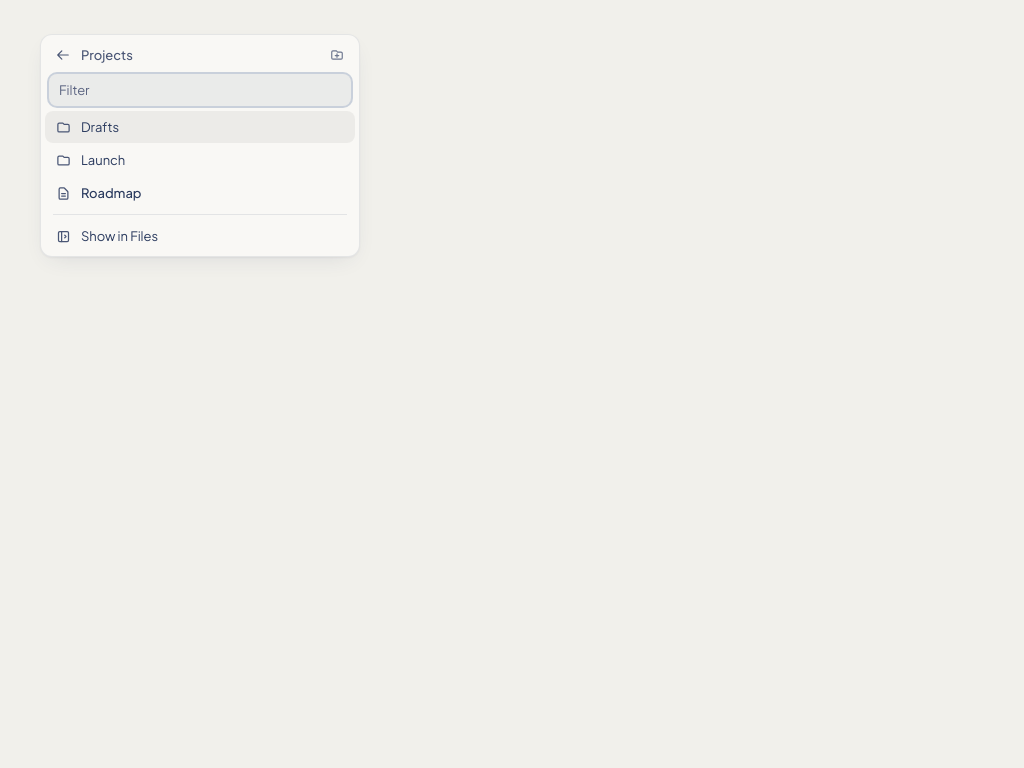
it: FolderPopover › creates a new folder in place and steps into it
Click the button named "New Folder": {"x": 337, "y": 55} [323,41,351,69]
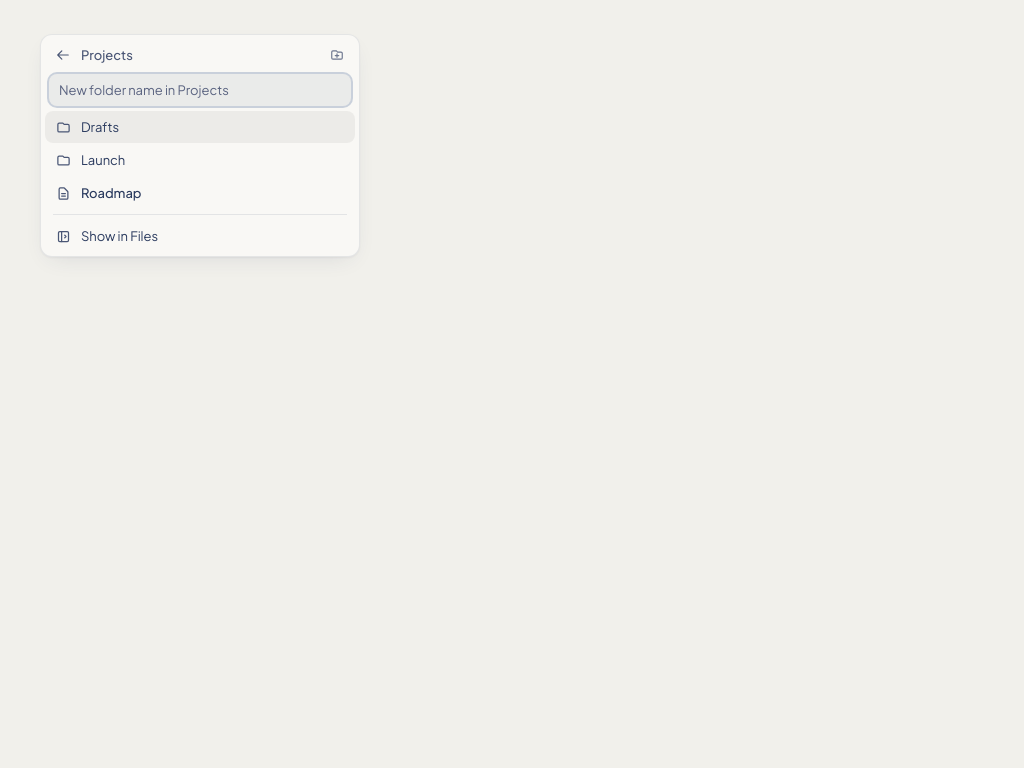
In the field labelled "New folder name": {"x": 200, "y": 90} [49,74,351,106], type "Drafts"
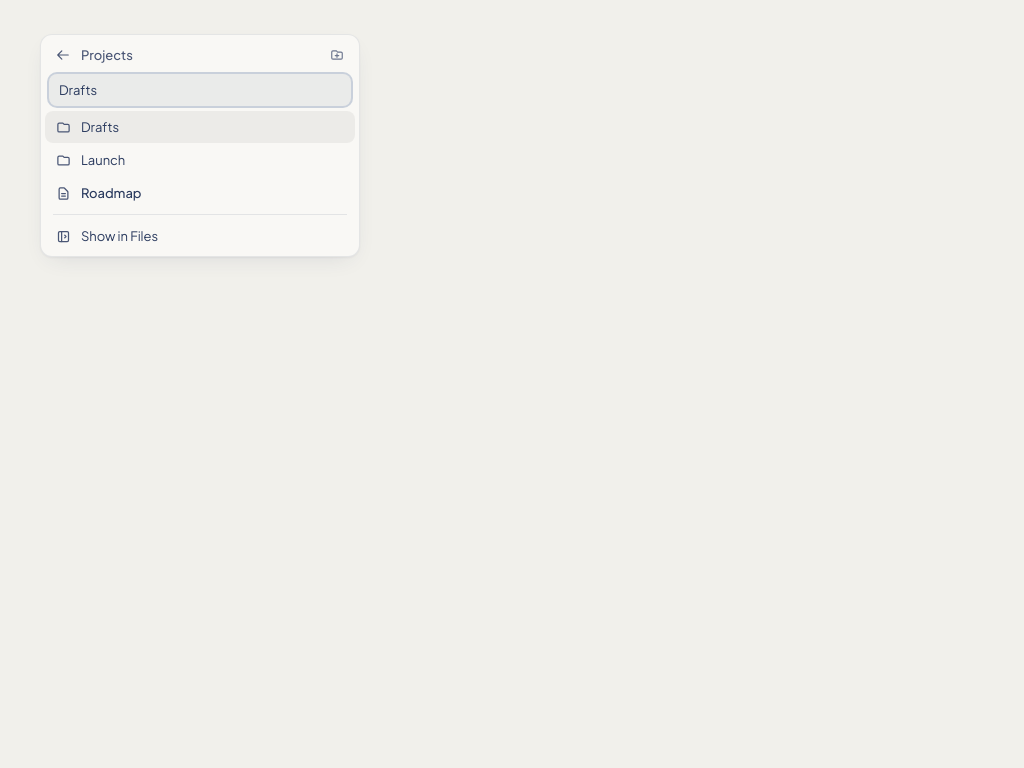
Press Enter in the field named "New folder name", box [49,74,351,106]
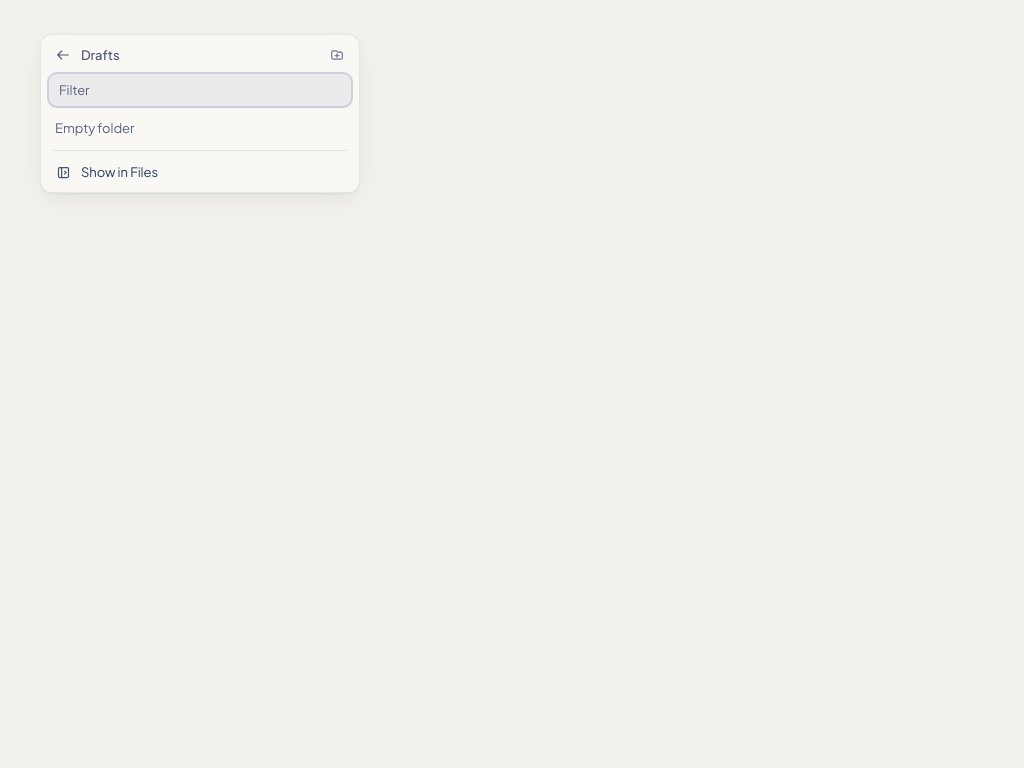
Expected: the text "Empty folder" is shown, [55,120,134,136]
Expected: the field named "Filter this folder" is shown, [49,74,351,106]
